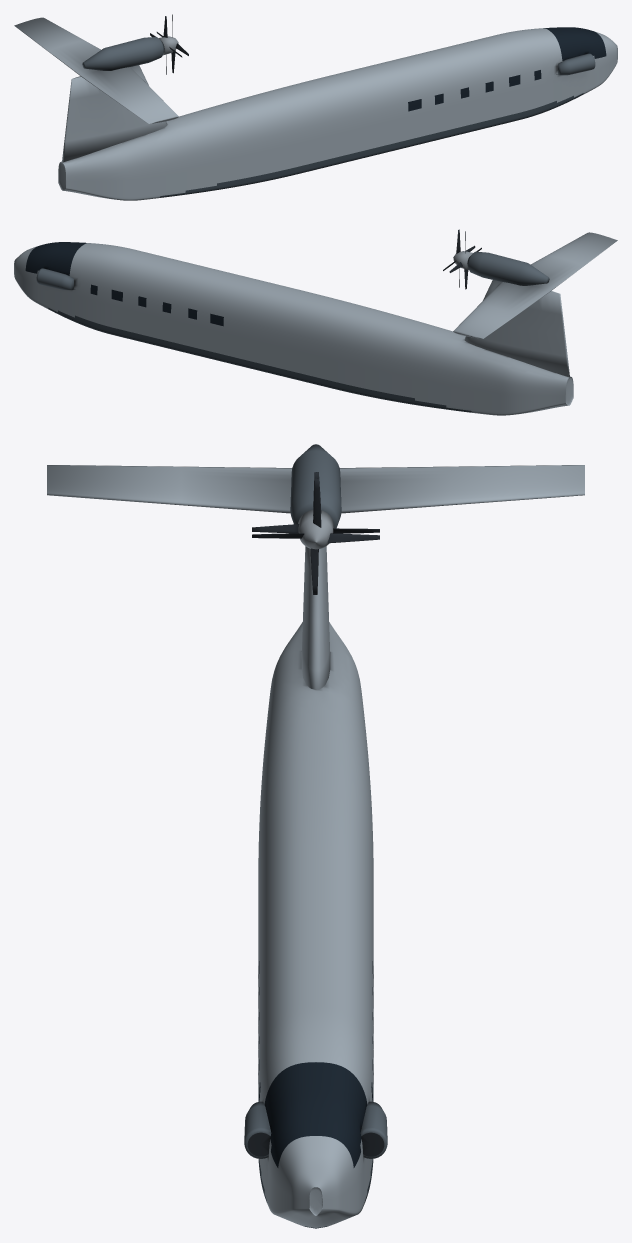
File: orlyonok.glb
3 views of the same model, one above another, from view 1: azimuth 30°, elevation 25°; view 2: azimuth 150°, elevation 25°; view 3: azimuth 270°, elevation 25° (orthographic). The views are drawn at different scales.
Parts seen in each view (by area): view 1: hull, stab, fin, nk12, nk8_1; view 2: hull, stab, fin, nk12, nk8_2; view 3: hull, stab, fin, nk12, prop_b, prop_a_spinner.
Part boxes in pixels (box(x1,y1,x2,y2)): hull: box(58, 27, 617, 200); stab: box(14, 17, 178, 123); fin: box(62, 65, 167, 162); nk12: box(82, 37, 164, 70); nk8_1: box(558, 53, 595, 75); hull: box(14, 242, 573, 415); stab: box(453, 232, 617, 338); fin: box(464, 280, 569, 377); nk12: box(467, 251, 549, 285); nk8_2: box(36, 268, 73, 289); hull: box(258, 622, 373, 1228); stab: box(47, 465, 584, 513); fin: box(301, 546, 330, 689); nk12: box(290, 444, 341, 528); prop_b: box(252, 478, 379, 594); prop_a_spinner: box(298, 510, 333, 549).
Bounding box in the file's own units: 0.9993 × 0.3153 × 0.42.
